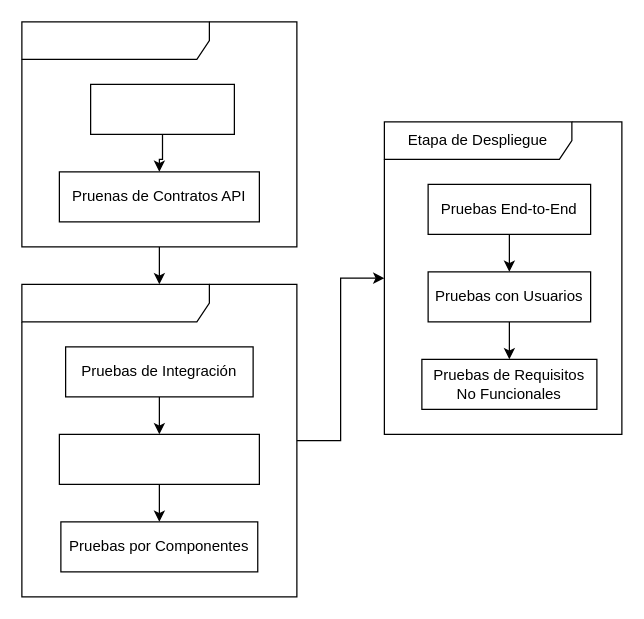
Some shapes in this 644 by 619 pixel diagram are drawn without their labels. Here are the shapes that lost their labels. From the top down, the box of each, then its label:
(89, 83, 234, 134): Pruebas Unitarias
(21, 21, 297, 247): Etapa de Desarrollo
(58, 433, 259, 484): Validación del API Gateway
(21, 283, 297, 597): Etapa de Integración
